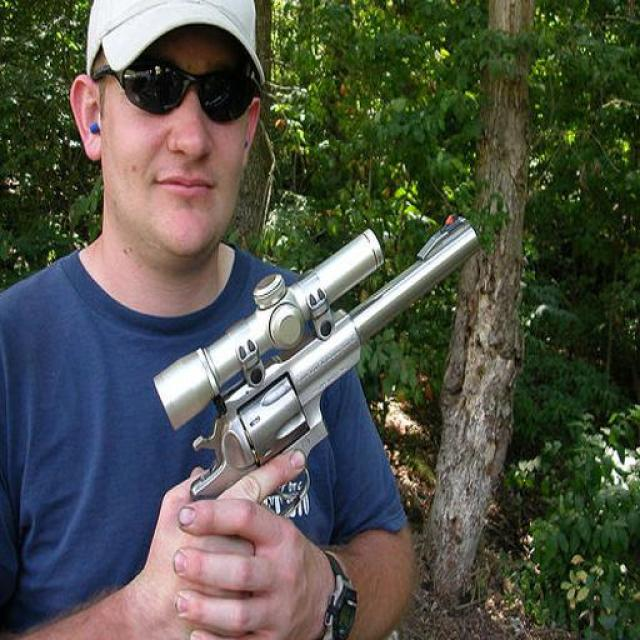pistol: (186, 208, 477, 524)
